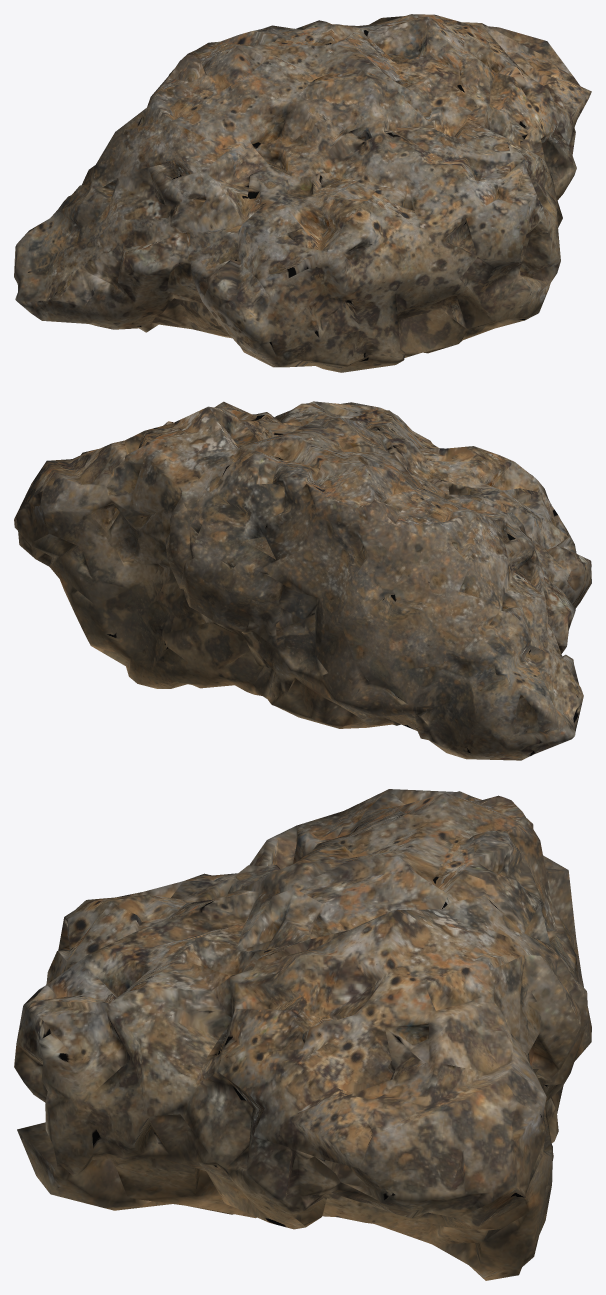
The model's file is SM_yh2mfcv_tier_2.gltf.
The picture shows the model from 3 angles, top to bottom: view 1: azimuth 30°, elevation 25°; view 2: azimuth 150°, elevation 25°; view 3: azimuth 270°, elevation 25°; orthographic projection. The views are drawn at different scales.
Parts seen in each view (by area): view 1: yh2mfcv_LOD2_TIER2_000; view 2: yh2mfcv_LOD2_TIER2_000; view 3: yh2mfcv_LOD2_TIER2_000.
Boxes of the visible parts, left/top/right/bottom form: yh2mfcv_LOD2_TIER2_000: left=14, top=14, right=591, bottom=372; yh2mfcv_LOD2_TIER2_000: left=14, top=401, right=591, bottom=760; yh2mfcv_LOD2_TIER2_000: left=14, top=789, right=591, bottom=1280.
Size of the model in its own units: 0.0785 by 0.0352 by 0.0513.
1 material, 1 textured.
